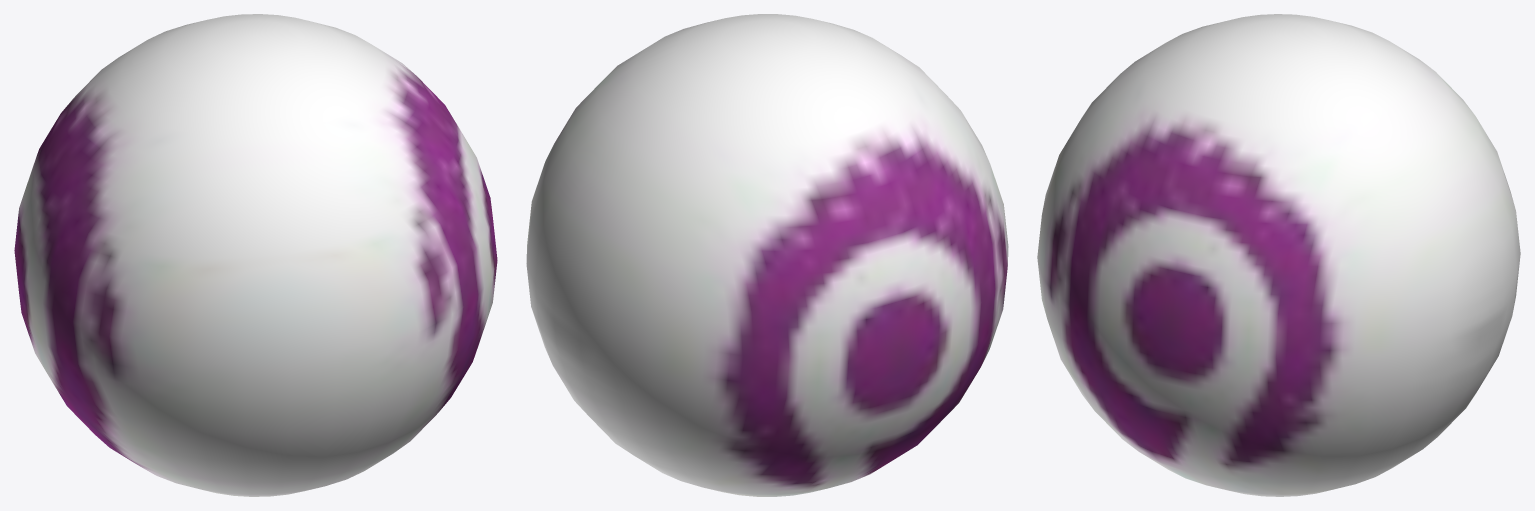
The model's file is Advertising.glb.
3 renders of one model, left to right at view 1: azimuth 30°, elevation 25°; view 2: azimuth 150°, elevation 25°; view 3: azimuth 270°, elevation 25°, orthographic.
Visible parts, largest first — view 1: Advertising; view 2: Advertising; view 3: Advertising.
Boxes of the visible parts, x1,y1,x2,y2 form: Advertising: (14, 14, 497, 496); Advertising: (526, 14, 1008, 496); Advertising: (1037, 14, 1520, 496).
Size of the model in its own units: 5.65 by 5.65 by 5.65.
1 material, 1 textured.
